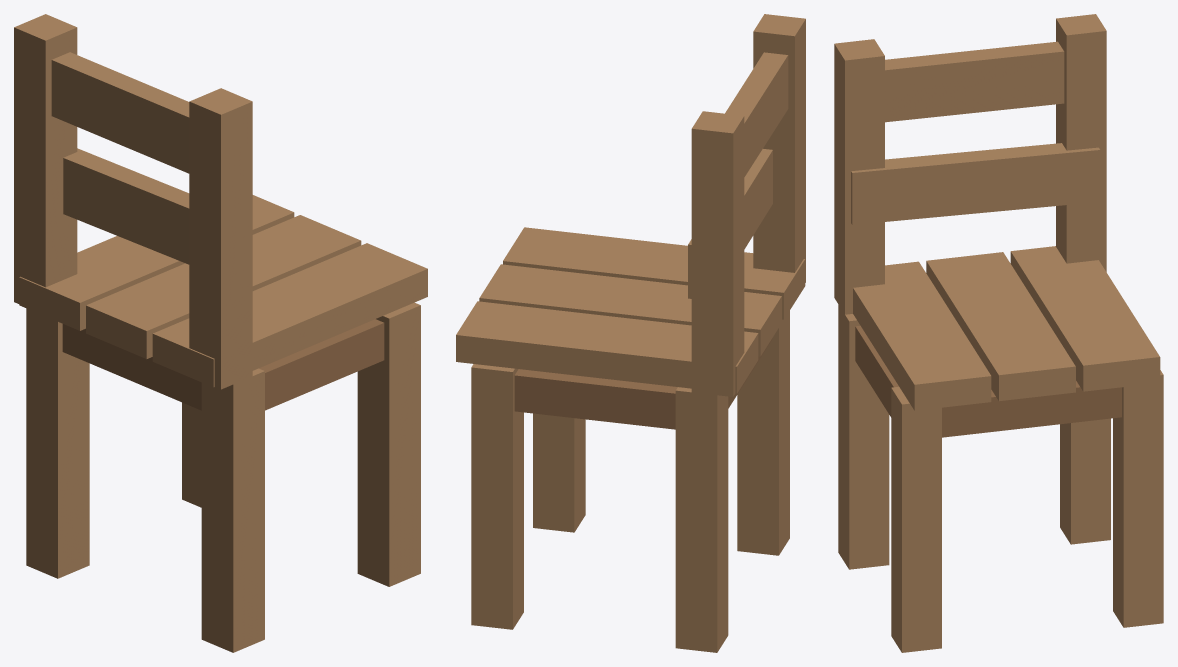
Rendered from chair.fbx.
3 views of the same model, side by side, from view 1: azimuth 30°, elevation 25°; view 2: azimuth 150°, elevation 25°; view 3: azimuth 270°, elevation 25° (orthographic). The views are drawn at different scales.
Visible parts, largest first — view 1: Chair_Left; view 2: Chair_Left; view 3: Chair_Left.
Boxes of the visible parts, x1,y1,x2,y2 form: Chair_Left: [14, 14, 427, 652]; Chair_Left: [456, 14, 805, 652]; Chair_Left: [834, 14, 1163, 652].
Size of the model in its own units: 52.92 by 87 by 51.66.
